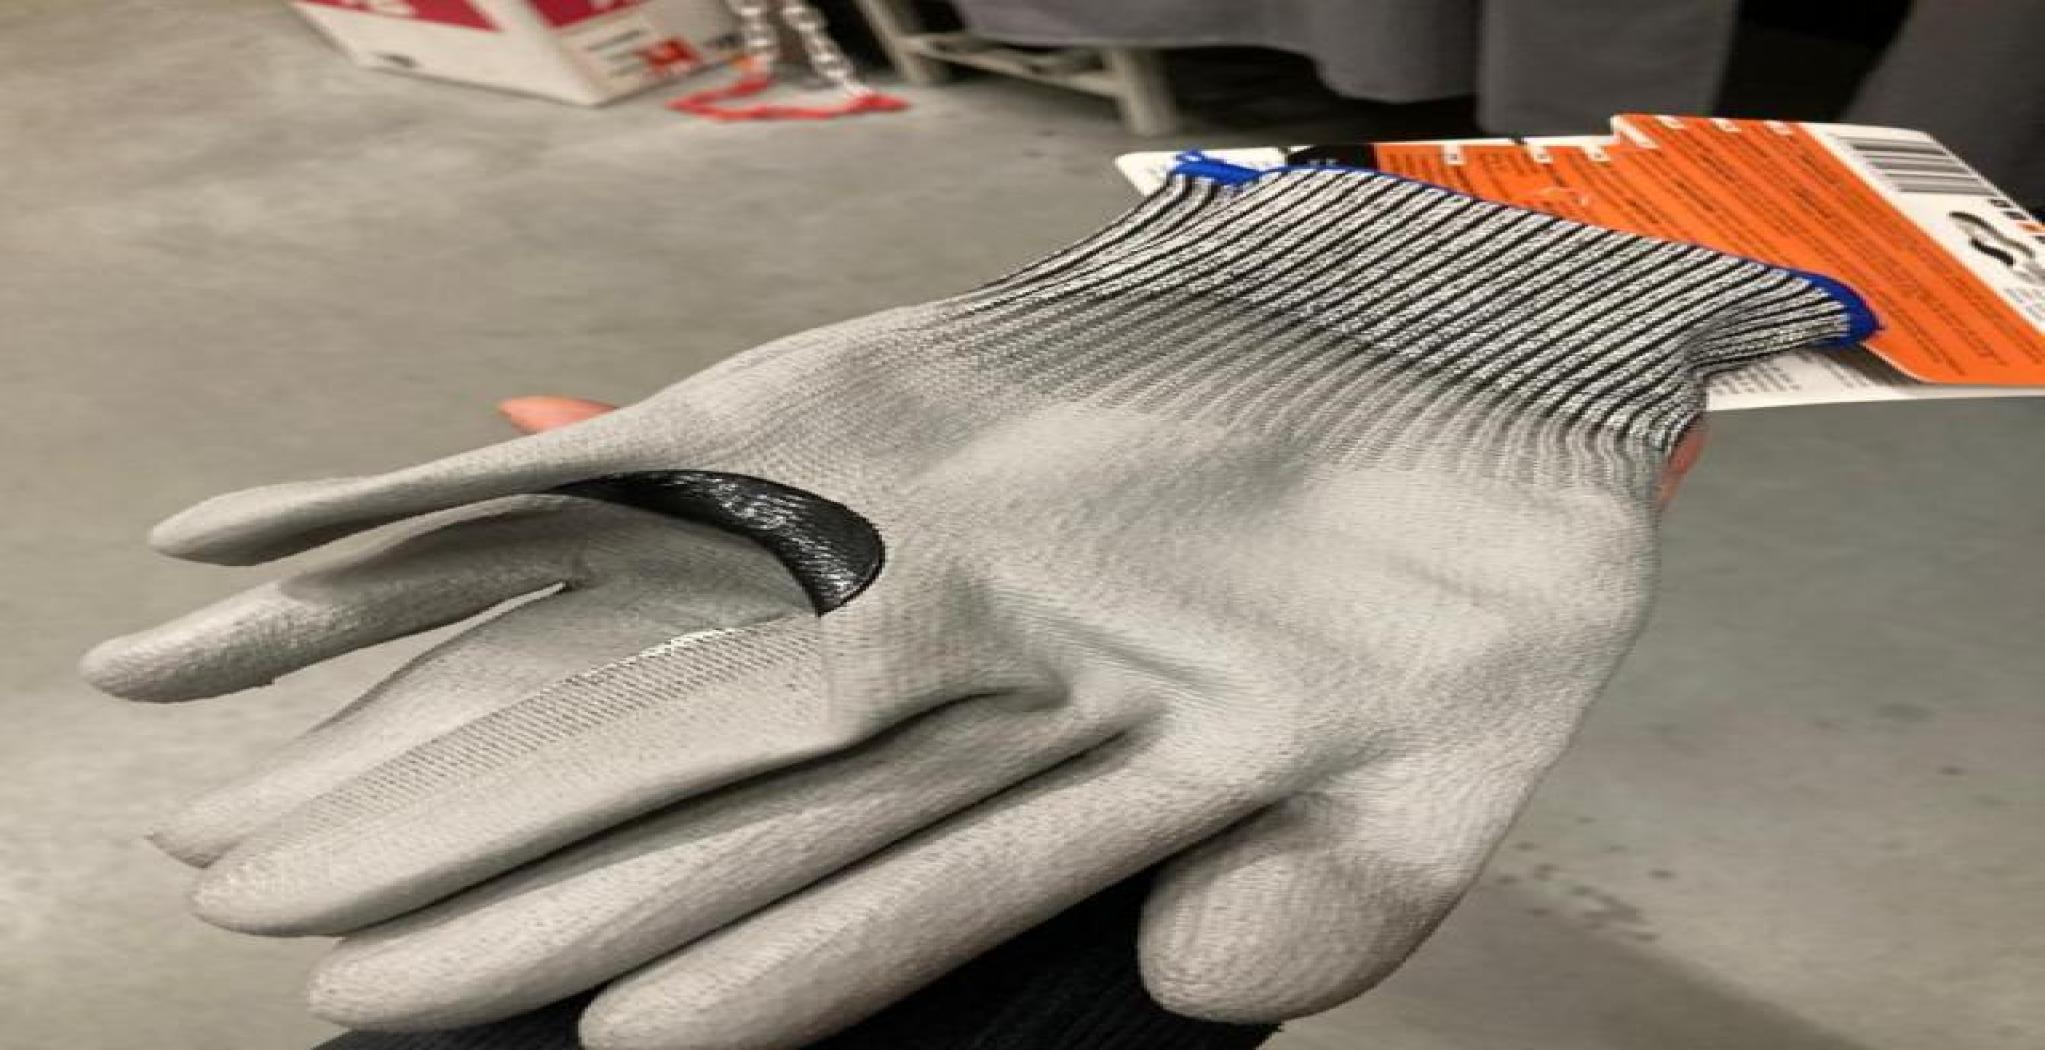gloved: (76, 150, 1875, 1049)
